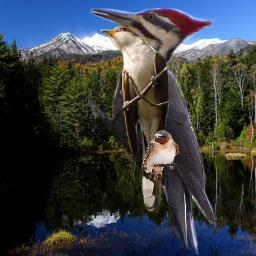Cuckoo: (100, 25, 170, 213)
Swallow: (143, 130, 179, 181)
Woodpecker: (88, 8, 217, 255)
